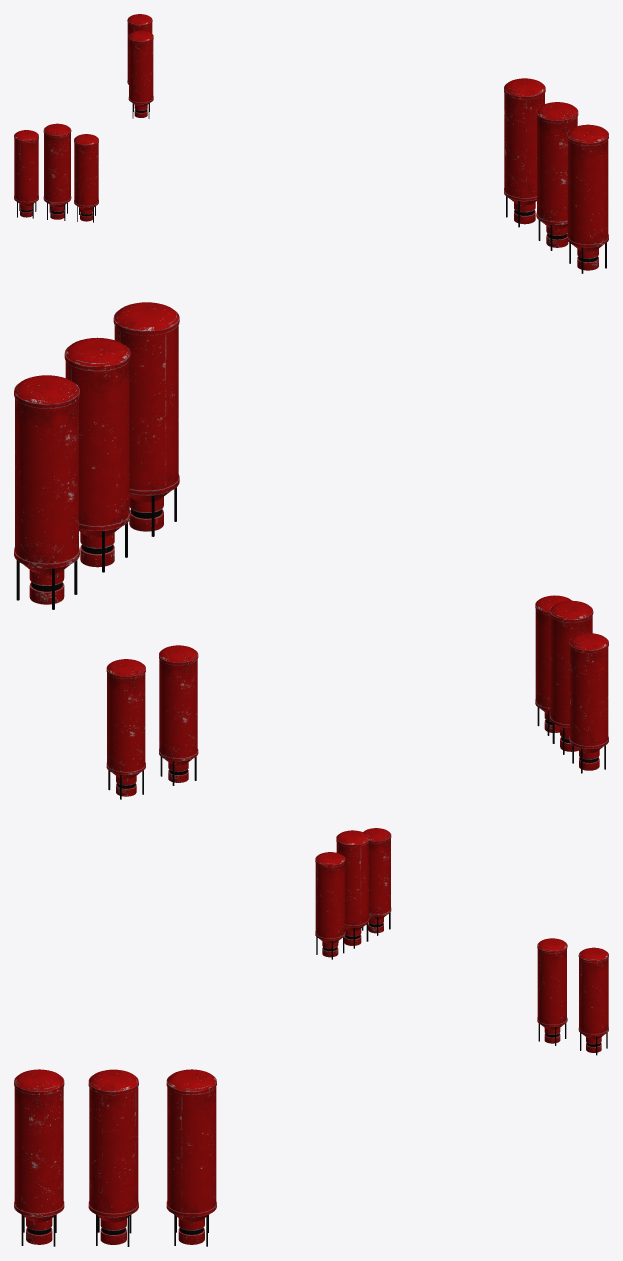
Rendered from Map_9.fbx.
The picture shows the model from 3 angles, top to bottom: view 1: azimuth 30°, elevation 25°; view 2: azimuth 150°, elevation 25°; view 3: azimuth 270°, elevation 25°; orthographic projection. The views are drawn at different scales.
Visible parts, largest first — view 1: Map_09; view 2: Map_09; view 3: Map_09.
Boxes of the visible parts, x1=… form: Map_09: x1=14, y1=14, x2=608, y2=273; Map_09: x1=14, y1=302, x2=608, y2=799; Map_09: x1=14, y1=828, x2=608, y2=1246.
Bounding box in the file's own units: 83.59 × 24.98 × 79.45.
Materials: 1 (1 with a texture image).
